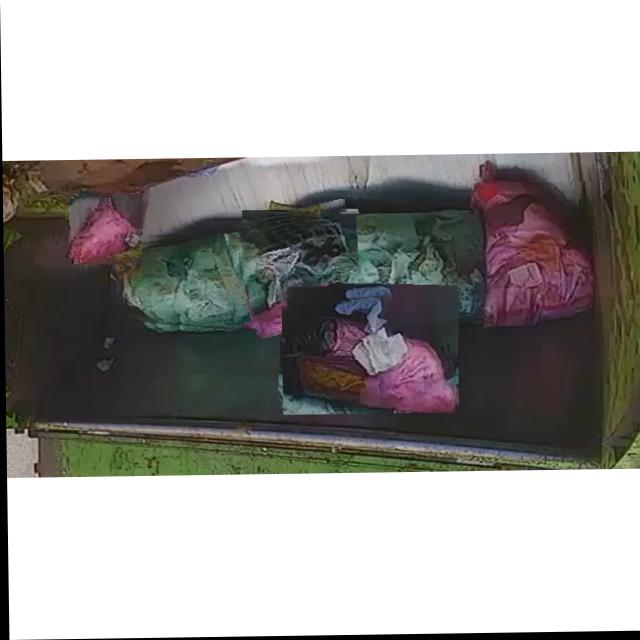general_trashbag: (340, 214, 479, 315), (123, 234, 257, 327), (238, 220, 360, 322)
other_trashbag: (282, 295, 453, 413), (472, 184, 592, 324), (66, 195, 139, 258)
